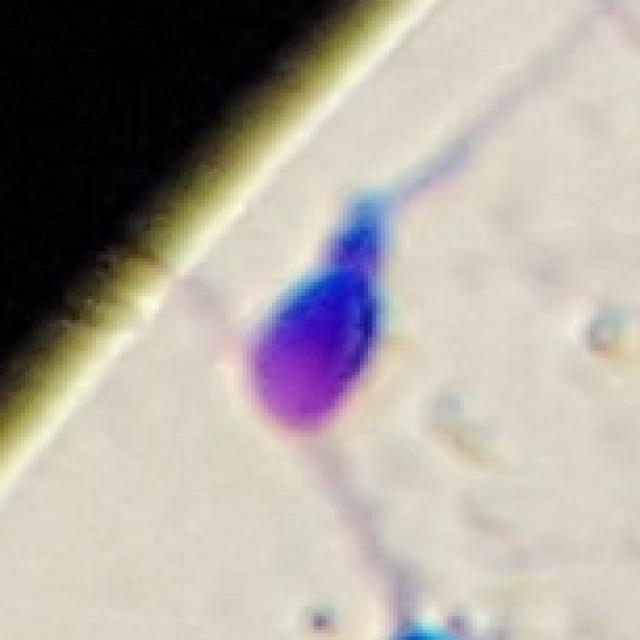abnormal sperm: (210, 118, 530, 479)
